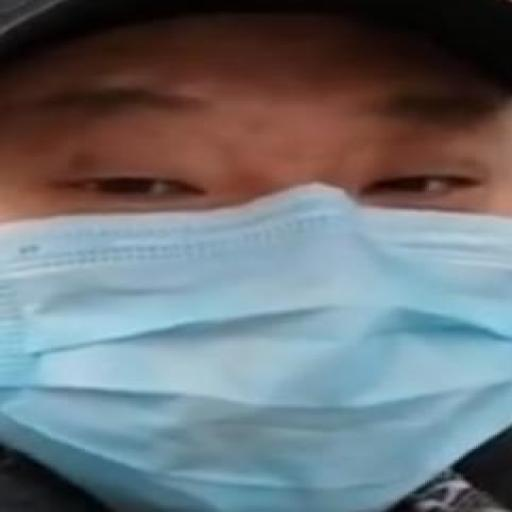mask: (0, 147, 512, 512)
